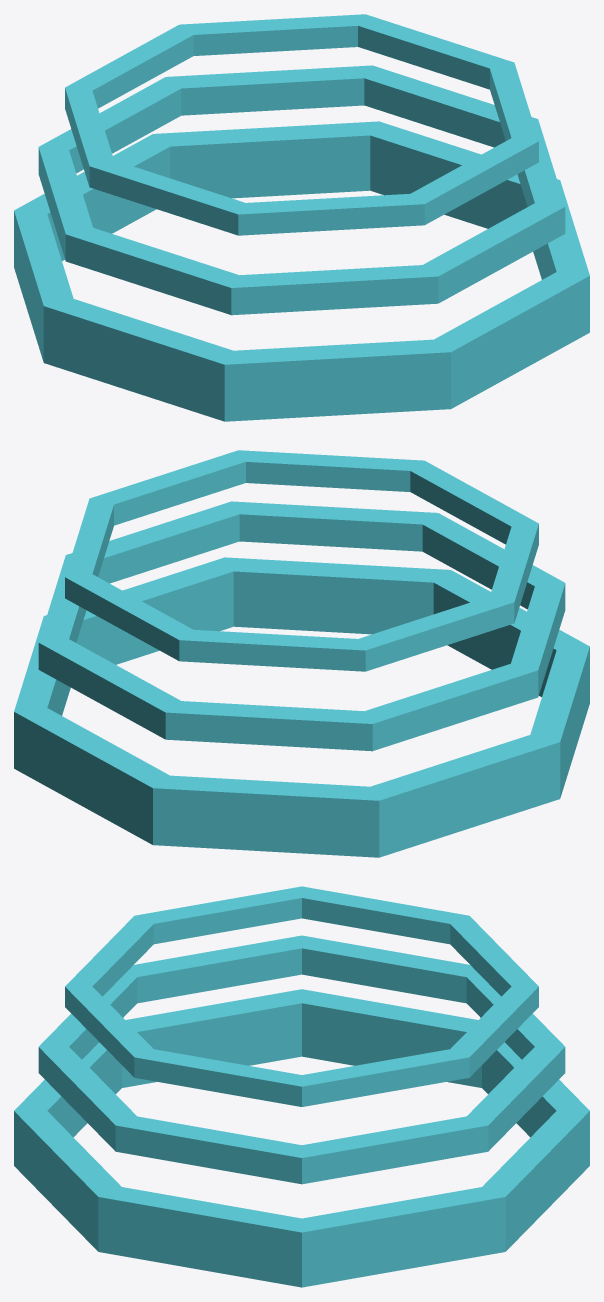
The model's file is enemy_around_object.fbx.
3 renders of one model, top to bottom at view 1: azimuth 30°, elevation 25°; view 2: azimuth 150°, elevation 25°; view 3: azimuth 270°, elevation 25°, orthographic. The views are drawn at different scales.
Visible parts, largest first — view 1: Cylinder; view 2: Cylinder; view 3: Cylinder.
Boxes of the visible parts, left/top/right/bottom form: Cylinder: left=14, top=14, right=589, bottom=421; Cylinder: left=14, top=450, right=589, bottom=857; Cylinder: left=14, top=886, right=589, bottom=1287.
Size of the model in its own units: 463 by 159 by 463.
